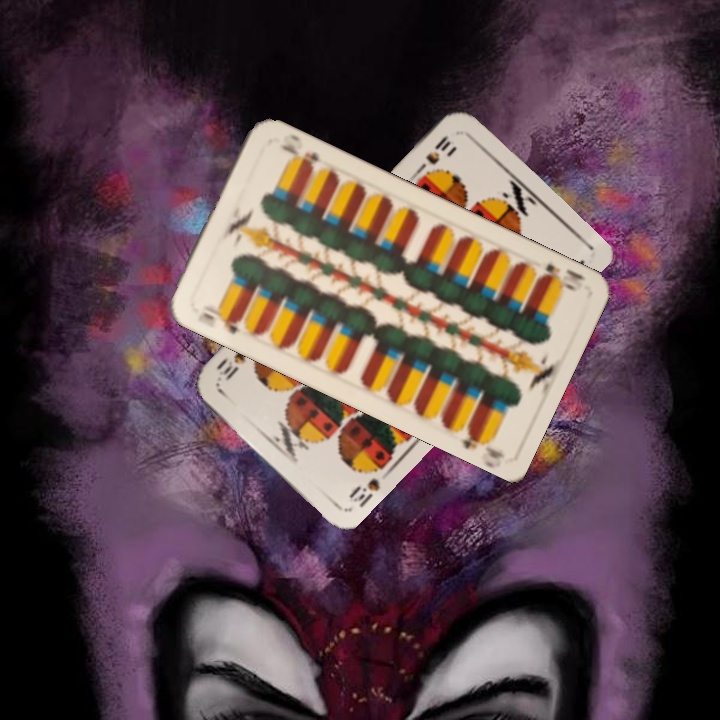E10: (534, 259, 588, 293), (199, 301, 245, 337)
S10: (414, 131, 454, 175), (344, 473, 383, 511)
